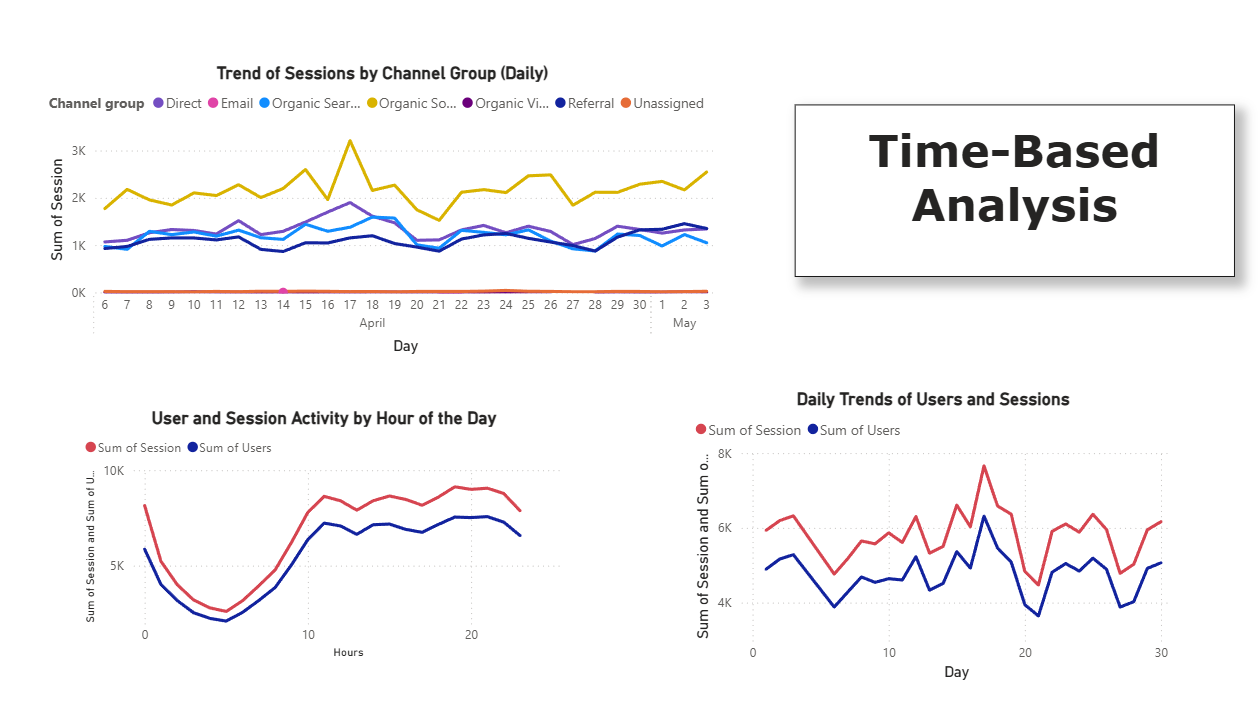

The page's visual inventory and layout, read from the dashboard file:
{"tool":"powerbi","page":{"name":"Page 2","canvas":[1280,720],"ordinal":1},"visuals":[{"type":"textbox","box":[430,20,294,60],"z":0},{"type":"lineChart","title":"Trend of Sessions by Channel Group (Daily)","fields":{"Category":["cleanedwebsite.DateHour.Variation.Date Hierarchy.Month","cleanedwebsite.DateHour.Variation.Date Hierarchy.Day"],"Y":["Sum(cleanedwebsite.Session)"],"Series":["cleanedwebsite.Channel group"]},"box":[234,98,654,287],"z":3},{"type":"lineChart","title":"User and Session Activity by Hour of the Day","fields":{"Category":["cleanedwebsite.Hours"],"Y":["Sum(cleanedwebsite.Session)","Sum(cleanedwebsite.Users)"]},"box":[105,405,471.7,248.3],"z":4},{"type":"lineChart","title":"Daily Trends of Users and Sessions","fields":{"Category":["cleanedwebsite.DateHour.Variation.Date Hierarchy.Day"],"Y":["Sum(cleanedwebsite.Session)","Sum(cleanedwebsite.Users)"]},"box":[693.3,386.7,470,286.7],"z":5}]}

Visuals, with their boxes in screenshot pixels (x1, y1, x2, y2), scaled from the page's 1280x720 canvas onto the 1258x705 screenshot:
textbox: (left=423, top=20, right=712, bottom=78)
"Trend of Sessions by Channel Group (Daily)" lineChart: (left=230, top=96, right=873, bottom=377)
"User and Session Activity by Hour of the Day" lineChart: (left=103, top=397, right=567, bottom=640)
"Daily Trends of Users and Sessions" lineChart: (left=681, top=379, right=1143, bottom=659)
